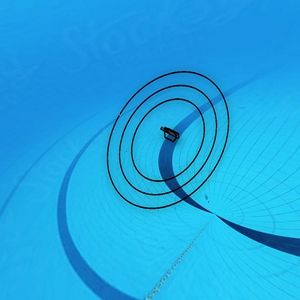circle: (106, 67, 230, 212)
submarine: (159, 125, 180, 142)
